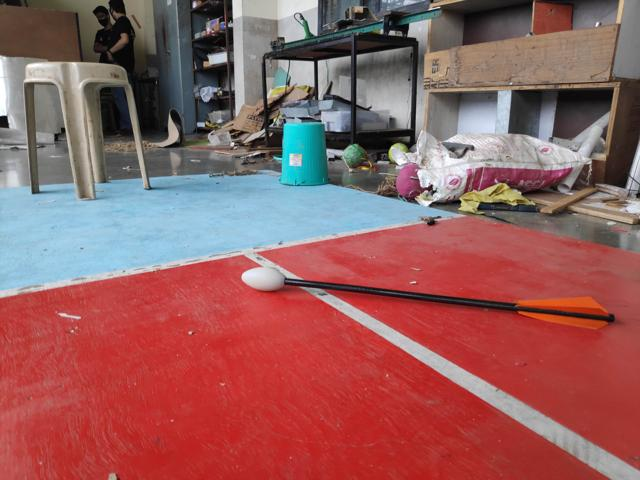Head: (238, 264, 289, 294)
Tail: (512, 294, 618, 332)
